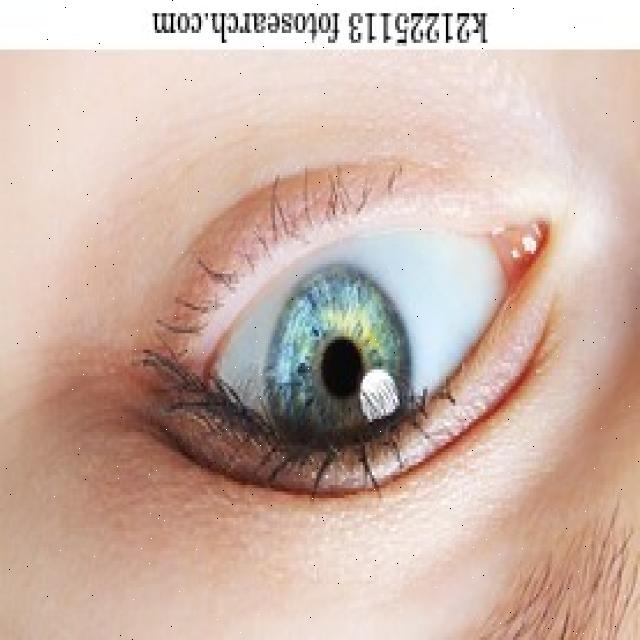Normal: (268, 262, 416, 475)
